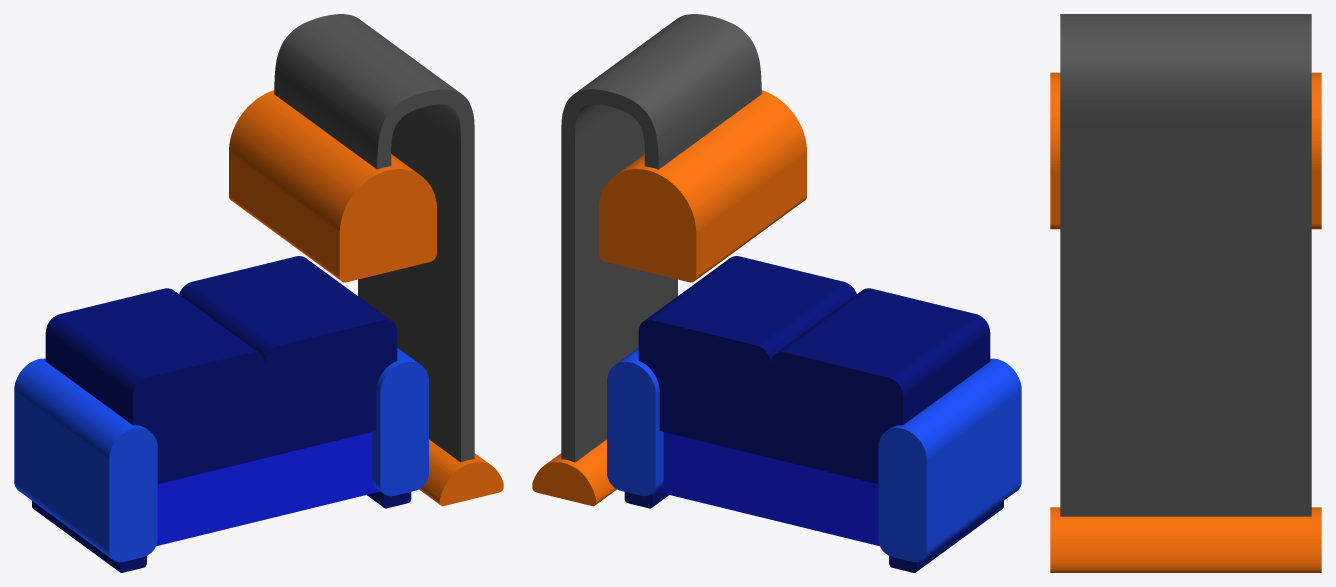
3 renders of one model, left to right at view 1: azimuth 30°, elevation 25°; view 2: azimuth 150°, elevation 25°; view 3: azimuth 270°, elevation 25°, orthographic. The views are drawn at different scales.
Parts seen in each view (by area): view 1: U+1F6CB_layer01_obj00, U+1F6CB_layer03_obj00, U+1F6CB_layer04_obj00, U+1F6CB_layer02_obj00, U+1F6CB_layer00_obj00; view 2: U+1F6CB_layer01_obj00, U+1F6CB_layer03_obj00, U+1F6CB_layer04_obj00, U+1F6CB_layer02_obj00, U+1F6CB_layer00_obj00; view 3: U+1F6CB_layer03_obj00, U+1F6CB_layer04_obj00.
Boxes of the visible parts, x1=… form: U+1F6CB_layer01_obj00: x1=32, y1=256, x2=411, y2=572; U+1F6CB_layer03_obj00: x1=274, y1=14, x2=474, y2=462; U+1F6CB_layer04_obj00: x1=229, y1=90, x2=503, y2=506; U+1F6CB_layer02_obj00: x1=14, y1=348, x2=428, y2=562; U+1F6CB_layer00_obj00: x1=156, y1=432, x2=379, y2=546; U+1F6CB_layer01_obj00: x1=624, y1=256, x2=1003, y2=572; U+1F6CB_layer03_obj00: x1=561, y1=14, x2=761, y2=462; U+1F6CB_layer04_obj00: x1=532, y1=90, x2=806, y2=506; U+1F6CB_layer02_obj00: x1=607, y1=348, x2=1021, y2=562; U+1F6CB_layer00_obj00: x1=656, y1=432, x2=879, y2=546; U+1F6CB_layer03_obj00: x1=1060, y1=14, x2=1311, y2=516; U+1F6CB_layer04_obj00: x1=1050, y1=72, x2=1321, y2=572.
Size of the model in its own units: 0.5639 by 0.5779 by 0.28.
